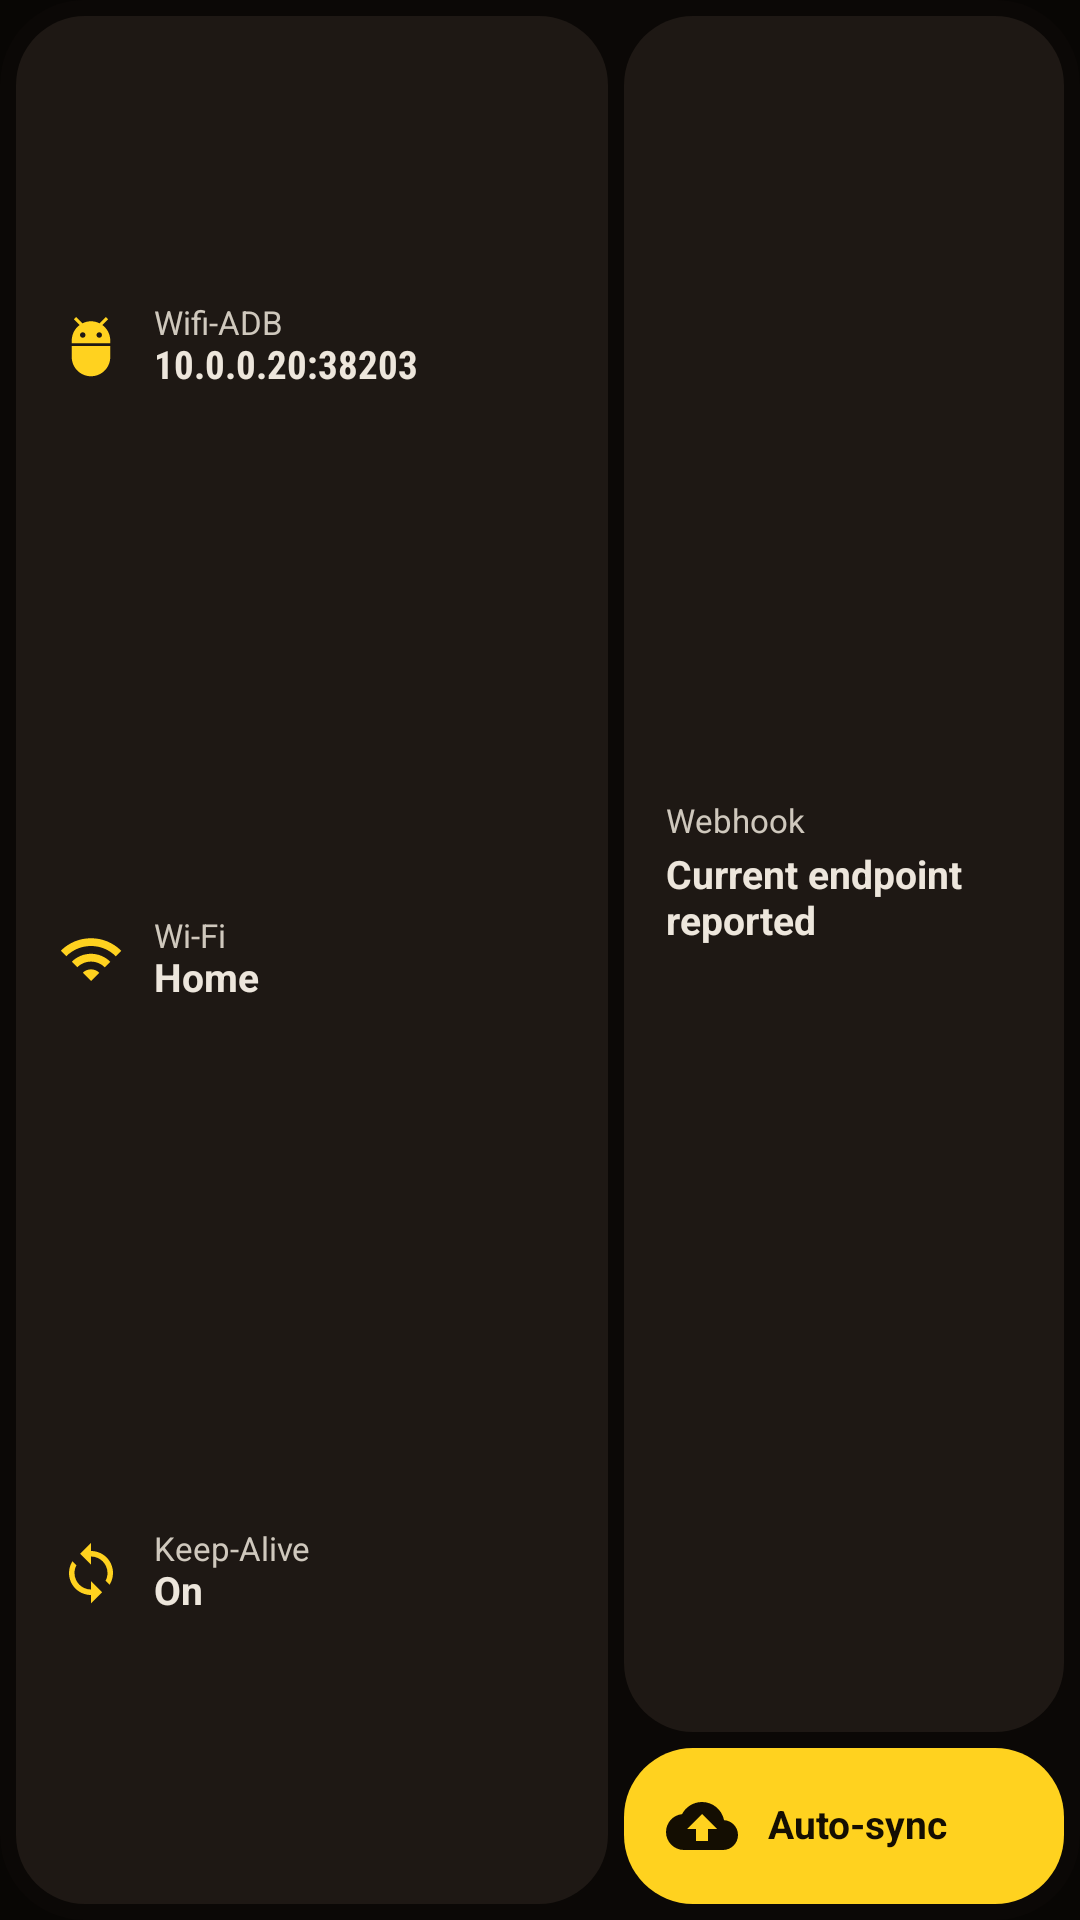

Named icons in this screenshot (1080w x 1920h) and their centers, (x=x, y=y):
widget sync: (x=702, y=1826)
